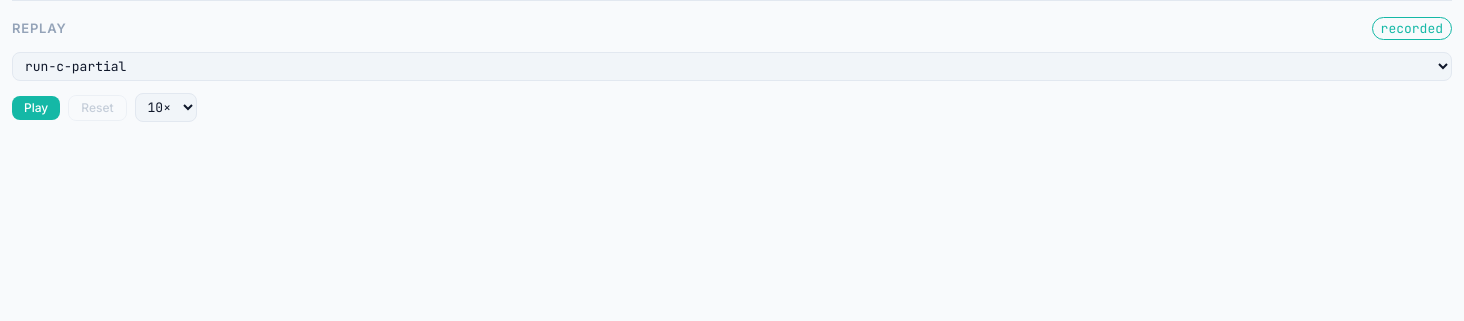
Test: ReplayPanel scrubber › marks partial recordings while replaying available Scenario C evidence
What coordinates should you click on to do the following:
click the button "Play"
I would click on:
 (36, 108)
Its box is [12,96,60,120].
Wait 200 ms
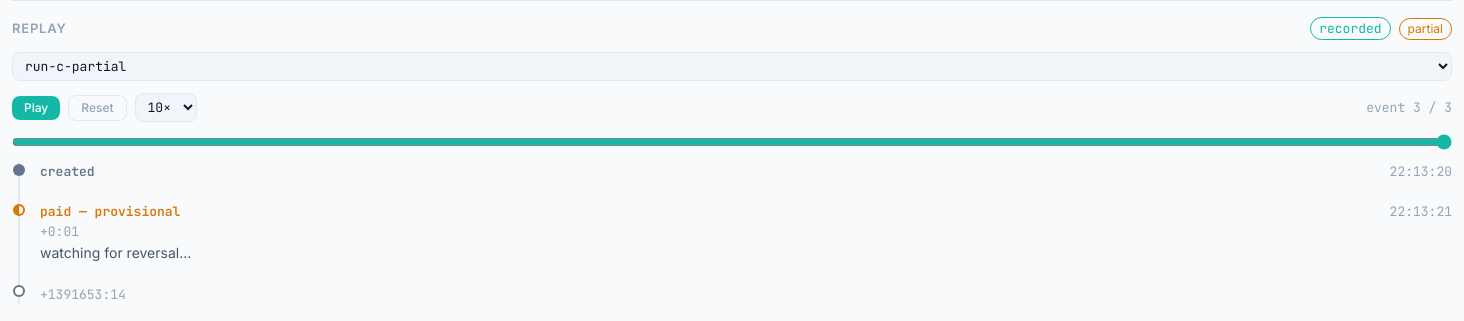
Expected: the text "recorded" is shown, [1310,17,1391,40]
Expected: the text "partial" is shown, [1399,18,1452,40]
Expected: the text "paid — provisional" is shown, [40,202,180,221]
